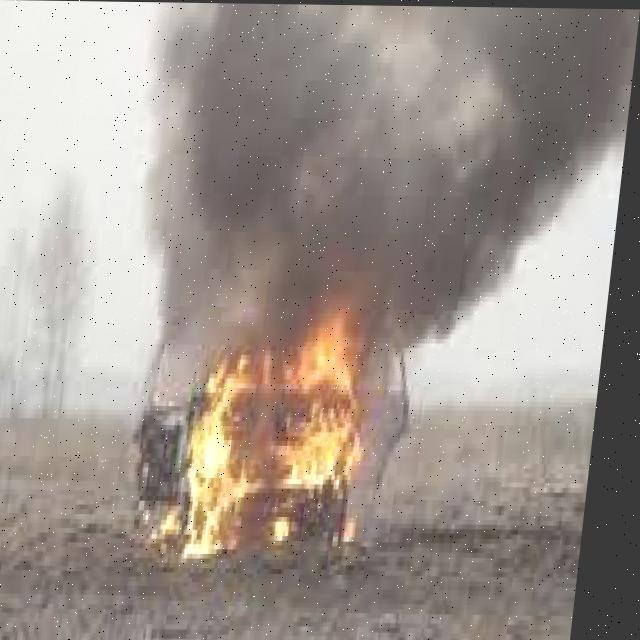Fire: (170, 306, 398, 554)
